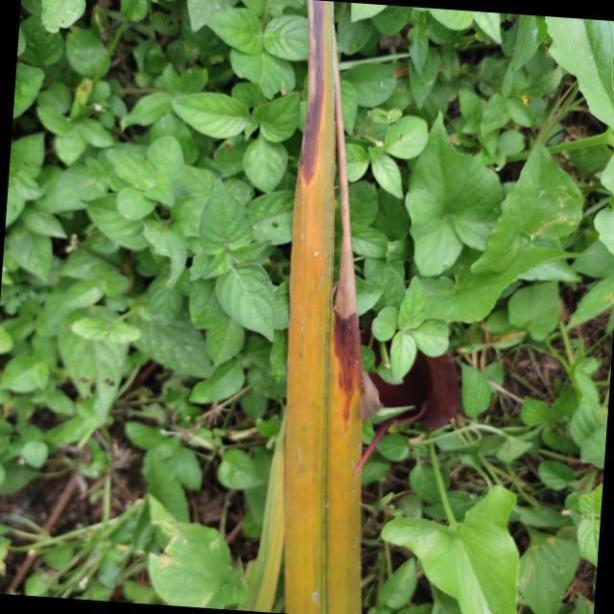Megnesium: (278, 0, 365, 614)
